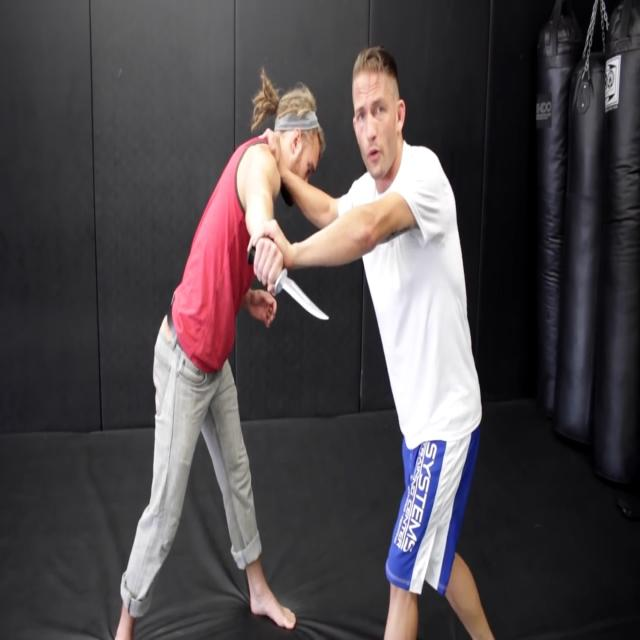knife: (278, 272, 332, 334)
